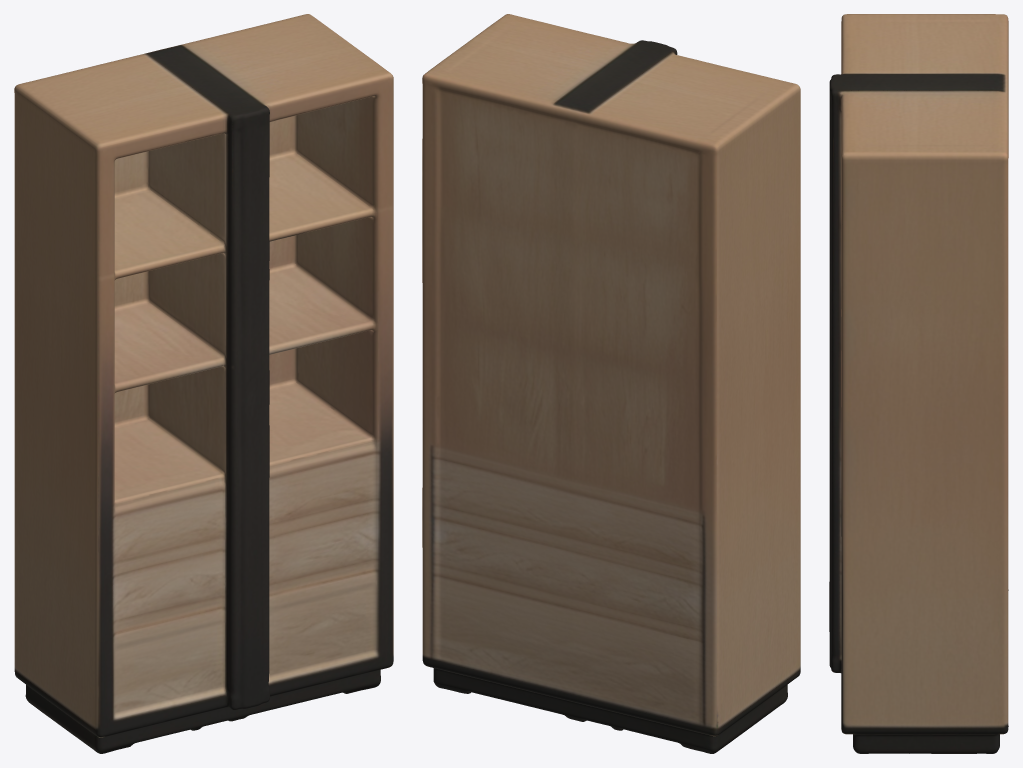
The model's file is product-farmhouse-charlotte-tall-cabinet-black-03.glb.
3 renders of one model, left to right at view 1: azimuth 30°, elevation 25°; view 2: azimuth 150°, elevation 25°; view 3: azimuth 270°, elevation 25°, orthographic. The views are drawn at different scales.
Parts seen in each view (by area): view 1: geometry_0; view 2: geometry_0; view 3: geometry_0.
Part boxes in pixels (<box>): geometry_0: <box>14,14,393,753</box>; geometry_0: <box>422,14,800,753</box>; geometry_0: <box>829,14,1008,753</box>.
Bounding box in the file's own units: 0.9939 × 1.97 × 0.5301.
Materials: 1 (1 with a texture image).
